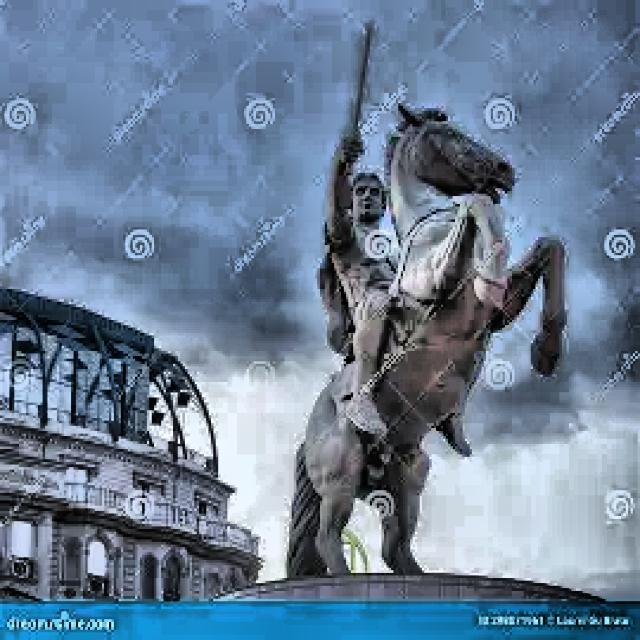alexander the great monument: (277, 24, 613, 598)
